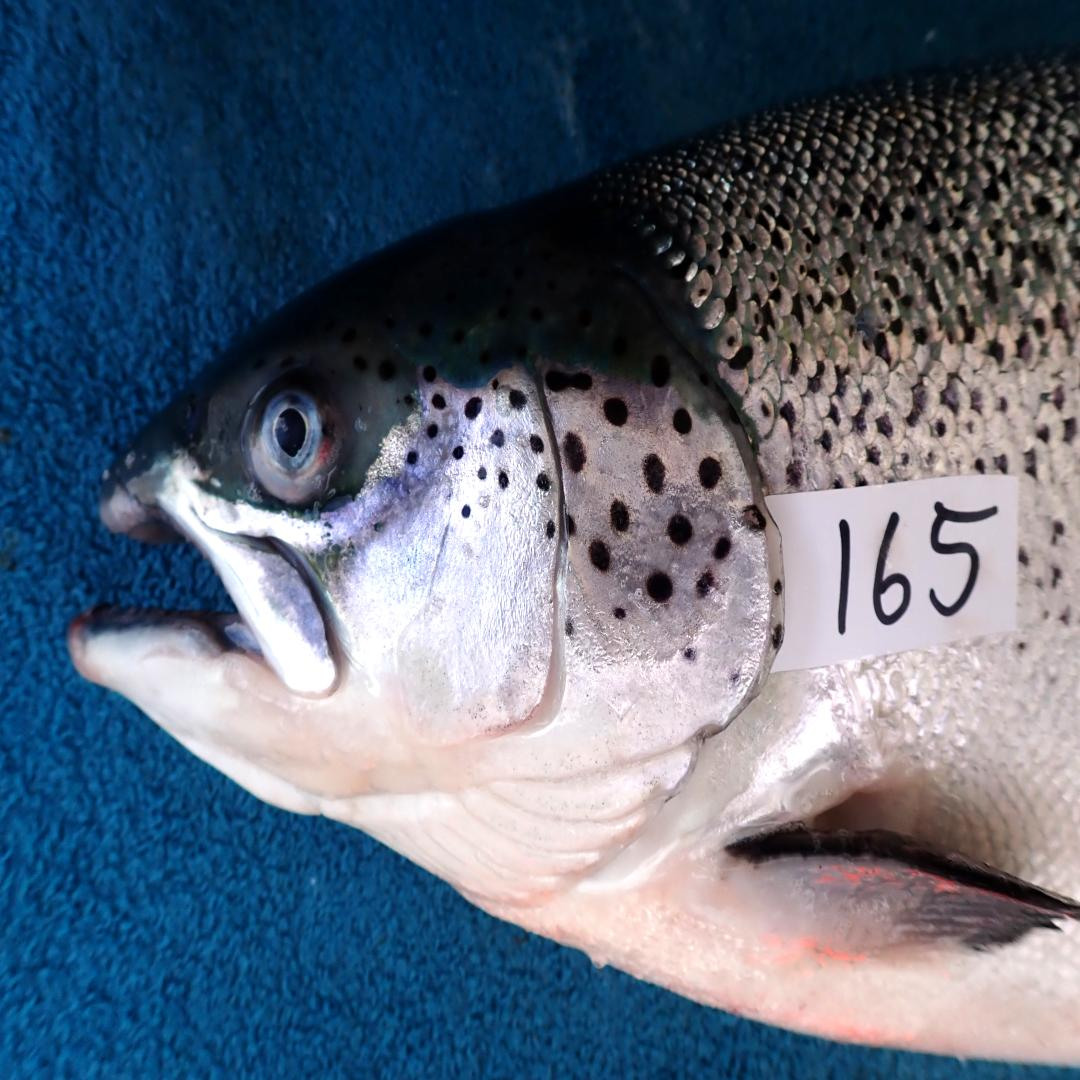roi: (332, 363, 779, 917)
